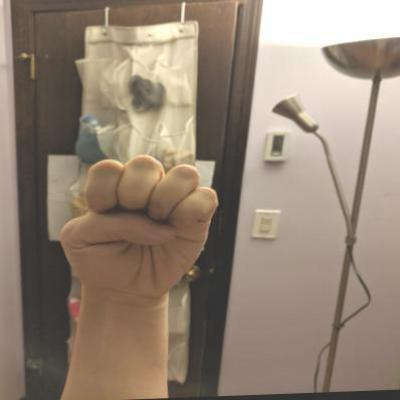hand: (56, 152, 224, 306)
